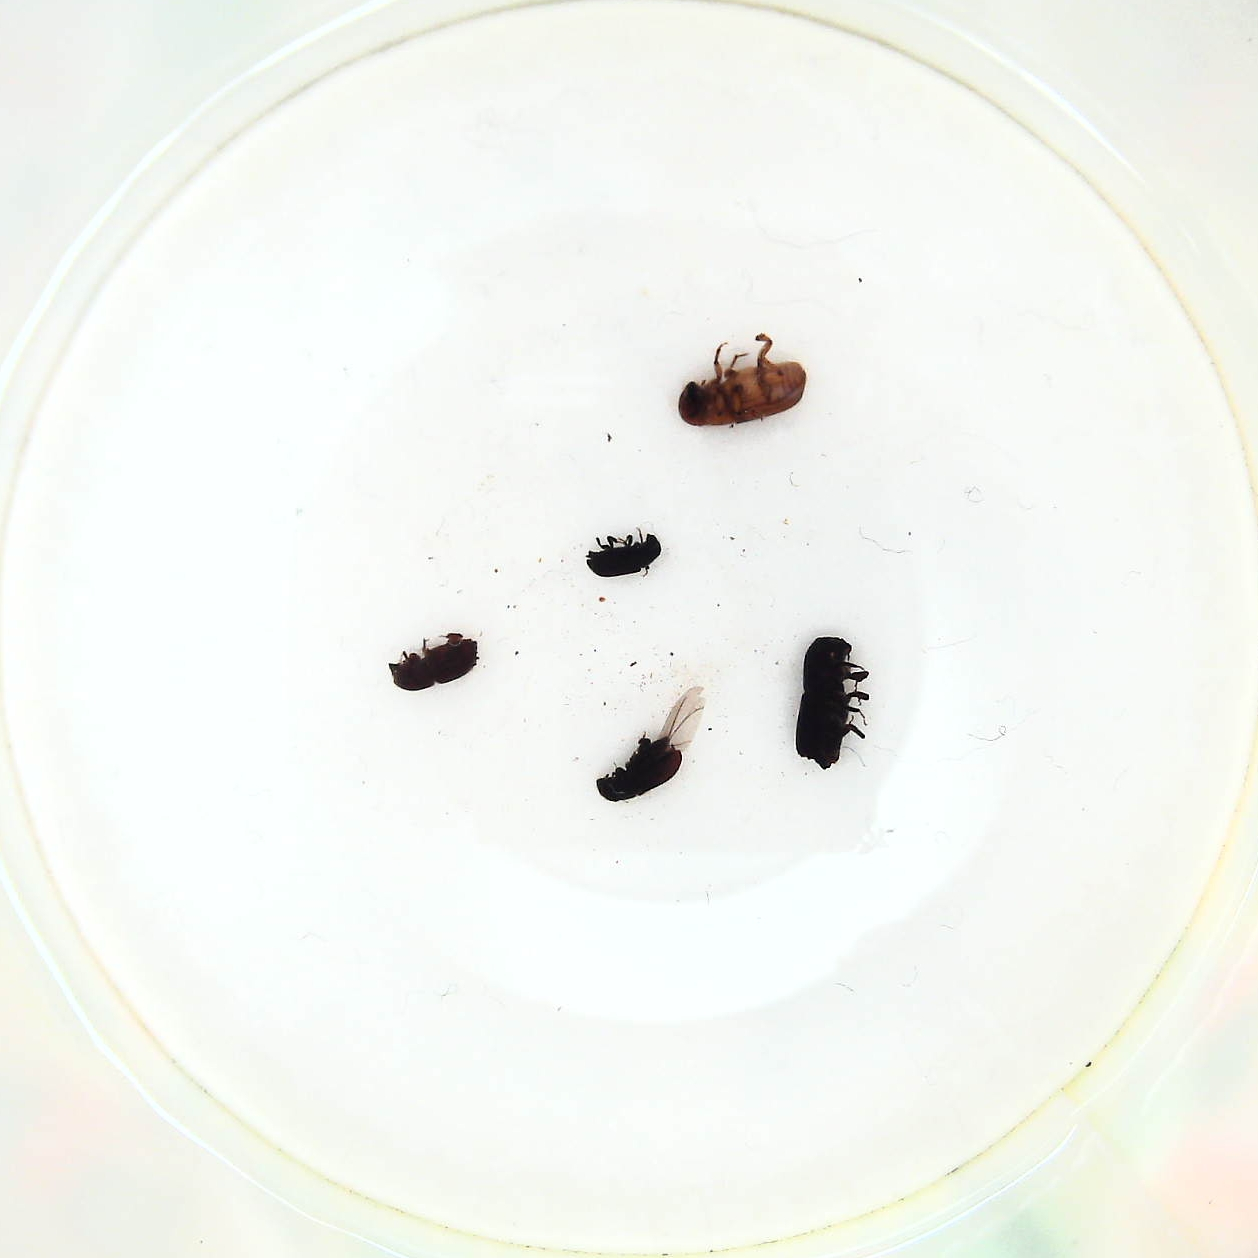Boerner: (791, 632, 874, 771)
Leconte: (676, 327, 811, 432)
armandi: (598, 685, 706, 808)
coleoptera: (581, 526, 667, 585)
linnaeus: (384, 629, 488, 700)
